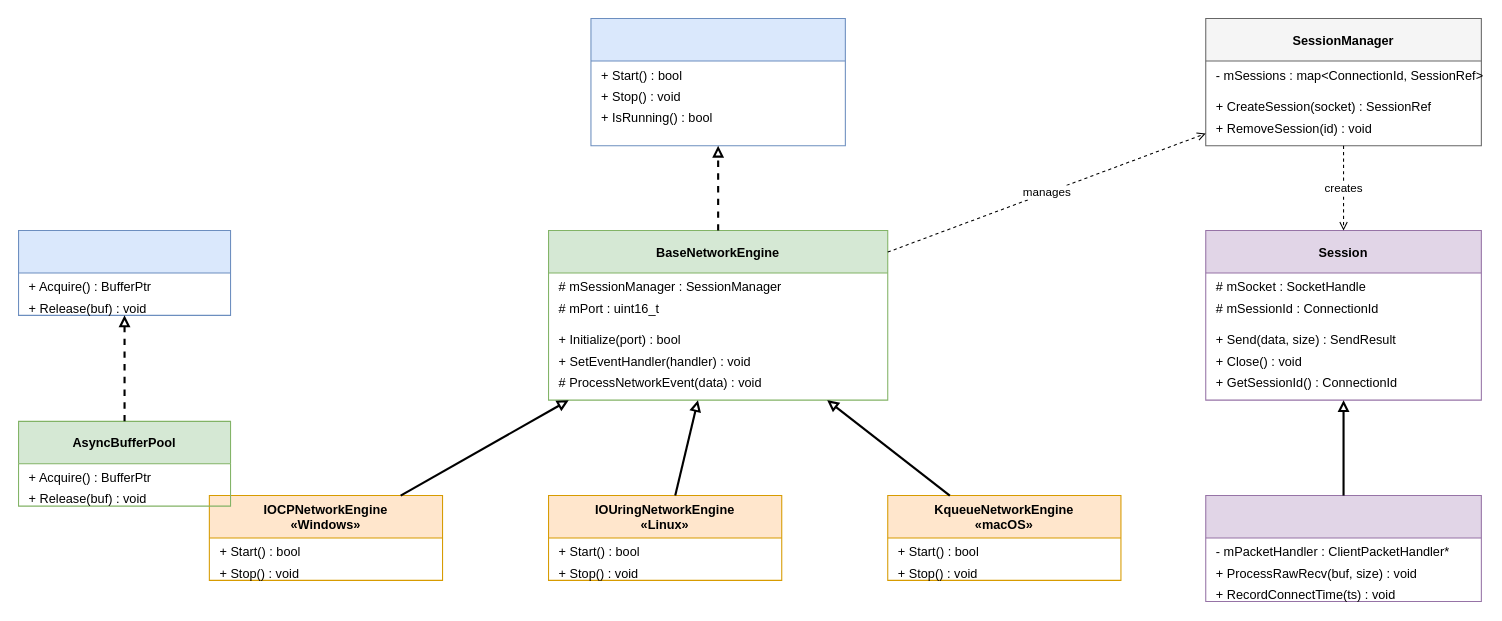
Image size: 1502x621. Some labels were removed from this diagram. Each missing label, with the box of its shape:
ClientSession: (1205, 494, 1481, 602)
«interface» IBufferPool: (17, 229, 231, 315)
«interface» INetworkEngine: (590, 17, 845, 146)
